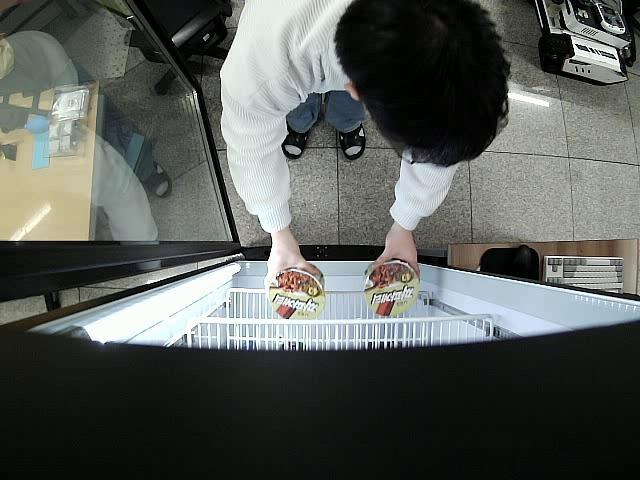03_chapagetti_L: (269, 263, 326, 322), (364, 261, 420, 314)
